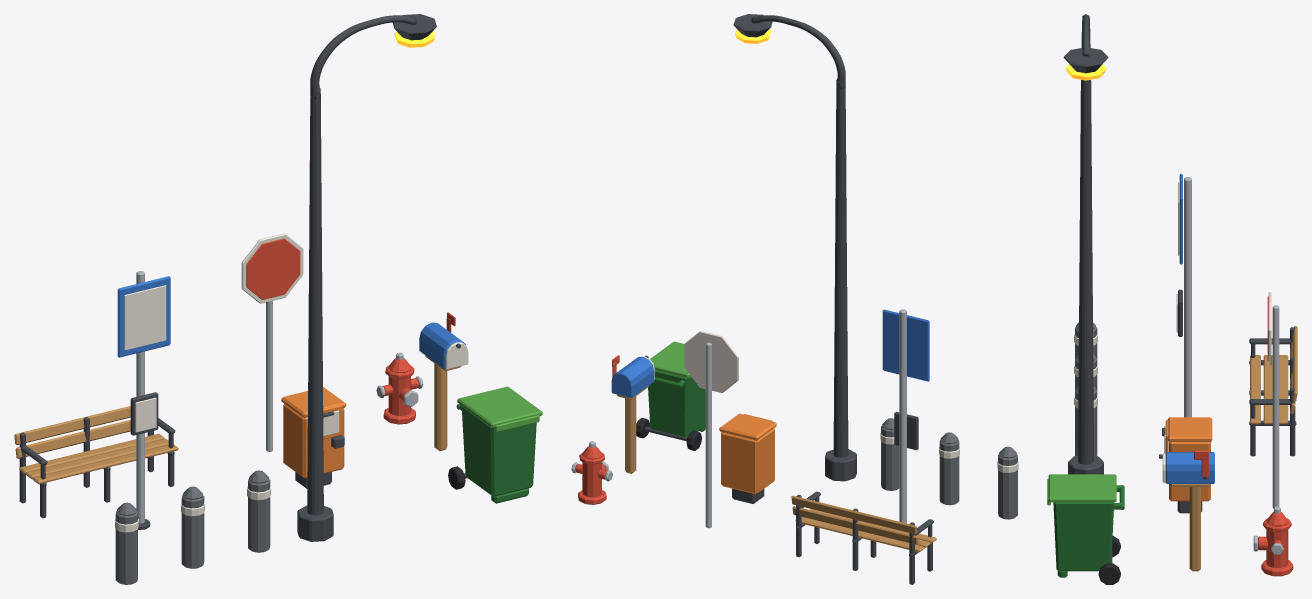
Rendered from suburban-street-props.glb.
3 views of the same model, side by side, from view 1: azimuth 30°, elevation 25°; view 2: azimuth 150°, elevation 25°; view 3: azimuth 270°, elevation 25° (orthographic). The views are drawn at different scales.
Visible parts, largest first — view 1: Streetlight_Pole, Bin_Body, Sign_Face, BusStop_SignPanel, NewsBox_Body, Lid, BusStop_Sign, Bollard_1_Body, Bollard_0_Body, Bollard_2_Body, Bench_BackSlat_1, BusStop_Pole (+14 smaller); view 2: Streetlight_Pole, Bin_Body, NewsBox_Body, BusStop_Sign, Sign_Border, BusStop_Pole, Sign_Post, Mailbox_Body, Bench_BackSlat_1, Bollard_1_Body, Bench_BackSlat_0, Bollard_0_Body (+10 smaller); view 3: Streetlight_Pole, Bin_Body, Lid, BusStop_Pole, Sign_Post, Mailbox_Body, NewsBox_Roof, Mailbox_Post, NewsBox_Body, Streetlight_Head, Hydrant_Body, Bench_SeatSlat_0 (+10 smaller).
Part boxes in pixels (<box>): Streetlight_Pole: <box>307,88,323,515</box>; Bin_Body: <box>461,406,536,496</box>; Sign_Face: <box>246,238,300,299</box>; BusStop_SignPanel: <box>124,285,166,350</box>; NewsBox_Body: <box>283,404,344,478</box>; Lid: <box>457,386,542,427</box>; BusStop_Sign: <box>117,276,170,357</box>; Bollard_1_Body: <box>181,495,204,568</box>; Bollard_0_Body: <box>115,511,137,584</box>; Bollard_2_Body: <box>248,479,270,552</box>; Bench_BackSlat_1: <box>14,406,130,444</box>; BusStop_Pole: <box>136,271,144,523</box>; Streetlight_Pole: <box>833,79,848,457</box>; Bin_Body: <box>648,370,705,436</box>; NewsBox_Body: <box>721,428,774,494</box>; BusStop_Sign: <box>882,309,929,381</box>; Sign_Border: <box>684,331,738,392</box>; BusStop_Pole: <box>899,309,906,523</box>; Sign_Post: <box>705,342,711,528</box>; Mailbox_Body: <box>611,357,654,397</box>; Bench_BackSlat_1: <box>791,495,917,534</box>; Bollard_1_Body: <box>939,440,959,505</box>; Bench_BackSlat_0: <box>792,506,918,544</box>; Bollard_0_Body: <box>998,454,1017,519</box>; Streetlight_Pole: <box>1078,80,1093,464</box>; Bin_Body: <box>1053,502,1114,571</box>; Lid: <box>1048,474,1116,502</box>; BusStop_Pole: <box>1184,177,1191,417</box>; Sign_Post: <box>1272,305,1279,508</box>; Mailbox_Body: <box>1165,452,1214,483</box>; NewsBox_Roof: <box>1167,417,1212,441</box>; Mailbox_Post: <box>1189,487,1200,571</box>; NewsBox_Body: <box>1169,442,1210,501</box>; Streetlight_Head: <box>1063,48,1108,73</box>; Hydrant_Body: <box>1266,530,1288,567</box>; Bench_SeatSlat_0: <box>1250,355,1260,424</box>.
Size of the model in its own units: 18.82 by 21.77 by 10.12.
